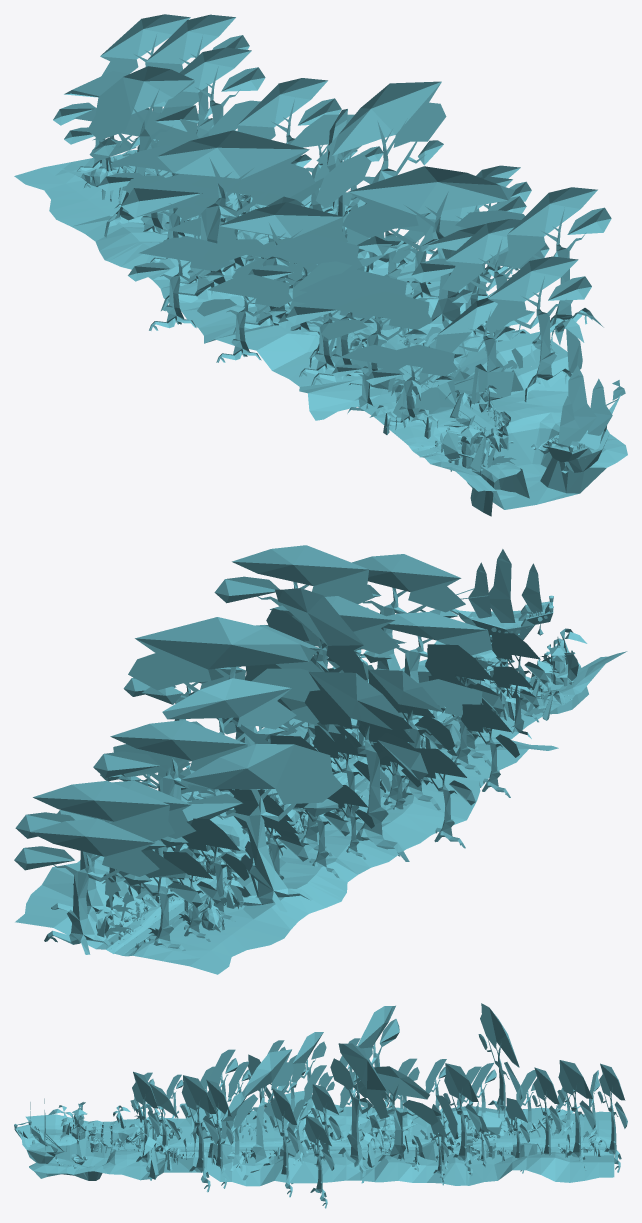
Rendered from collision-map.glb.
3 views of the same model, one above another, from view 1: azimuth 30°, elevation 25°; view 2: azimuth 150°, elevation 25°; view 3: azimuth 270°, elevation 25° (orthographic). The views are drawn at different scales.
Visible parts, largest first — view 1: COLLISION_OBSTACLE_15, COLLISION_OBSTACLE_13, COLLISION_OBSTACLE_11, COLLISION_OBSTACLE_03, COLLISION_GROUND_02, COLLISION_GROUND_10, COLLISION_GROUND_08, COLLISION_GROUND_09, COLLISION_OBSTACLE_04, COLLISION_OBSTACLE_12; view 2: COLLISION_OBSTACLE_13, COLLISION_OBSTACLE_11, COLLISION_OBSTACLE_15, COLLISION_OBSTACLE_03, COLLISION_GROUND_08, COLLISION_GROUND_09, COLLISION_GROUND_10, COLLISION_GROUND_02, COLLISION_OBSTACLE_12, COLLISION_OBSTACLE_04, COLLISION_OBSTACLE_14, COLLISION_GROUND_05; view 3: COLLISION_OBSTACLE_13, COLLISION_OBSTACLE_15, COLLISION_OBSTACLE_11, COLLISION_GROUND_08, COLLISION_GROUND_09, COLLISION_GROUND_10, COLLISION_GROUND_02, COLLISION_OBSTACLE_03, COLLISION_OBSTACLE_12, COLLISION_OBSTACLE_04, COLLISION_OBSTACLE_14, COLLISION_OBSTACLE_16 (+1 smaller).
Boxes of the visible parts, x1,y1,x2,y2 form: COLLISION_OBSTACLE_15: (197,166,611,413); COLLISION_OBSTACLE_13: (121,78,531,330); COLLISION_OBSTACLE_11: (53,14,265,239); COLLISION_OBSTACLE_03: (366,256,625,473); COLLISION_GROUND_02: (370,352,627,516); COLLISION_GROUND_10: (205,285,566,420); COLLISION_GROUND_08: (14,125,329,261); COLLISION_GROUND_09: (109,199,440,343); COLLISION_OBSTACLE_04: (435,386,513,475); COLLISION_OBSTACLE_12: (61,159,250,235); COLLISION_OBSTACLE_13: (93,617,475,878); COLLISION_OBSTACLE_11: (14,744,342,954); COLLISION_OBSTACLE_15: (214,545,539,810); COLLISION_OBSTACLE_03: (352,549,587,722); COLLISION_GROUND_08: (15,855,342,974); COLLISION_GROUND_09: (163,791,466,898); COLLISION_GROUND_10: (277,712,558,819); COLLISION_GROUND_02: (332,641,627,729); COLLISION_OBSTACLE_12: (135,849,257,948); COLLISION_OBSTACLE_04: (479,637,578,699); COLLISION_OBSTACLE_14: (207,803,347,870); COLLISION_GROUND_05: (114,874,227,955); COLLISION_OBSTACLE_13: (304,1005,481,1208); COLLISION_OBSTACLE_15: (166,1032,328,1197); COLLISION_OBSTACLE_11: (456,1003,627,1173); COLLISION_GROUND_08: (466,1106,614,1185); COLLISION_GROUND_09: (317,1104,465,1185); COLLISION_GROUND_10: (169,1091,317,1186); COLLISION_GROUND_02: (25,1114,169,1180); COLLISION_OBSTACLE_03: (14,1071,181,1180); COLLISION_OBSTACLE_12: (466,1105,600,1159); COLLISION_OBSTACLE_04: (67,1102,169,1154); COLLISION_OBSTACLE_14: (329,1118,460,1160); COLLISION_OBSTACLE_16: (196,1115,308,1159).
Bounding box in the file's own units: 41661 × 23399 × 86937.
